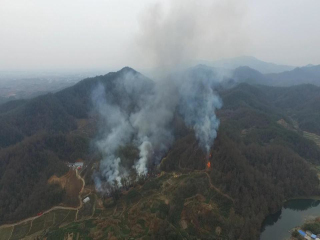smoke: (82, 2, 229, 196)
